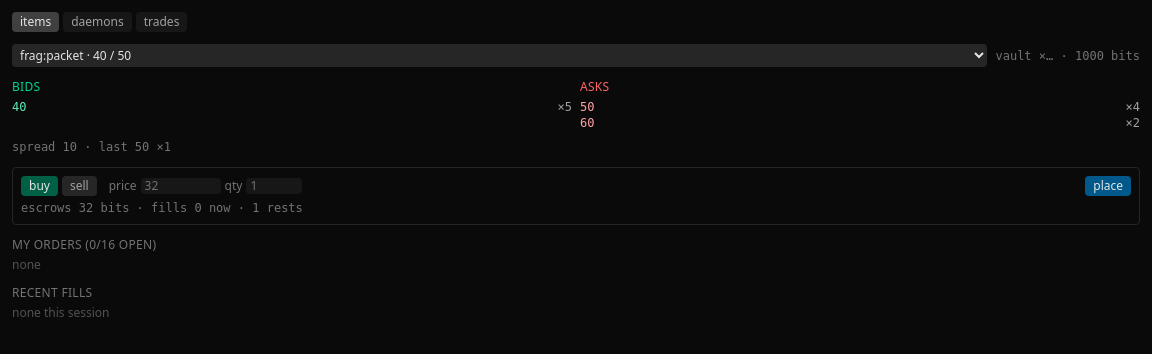
ExchangePanel › says the vault is loading instead of claiming it is empty
Click the button with test id "side-SELL" at x=79, y=186, box left=62, top=176, right=97, bottom=196
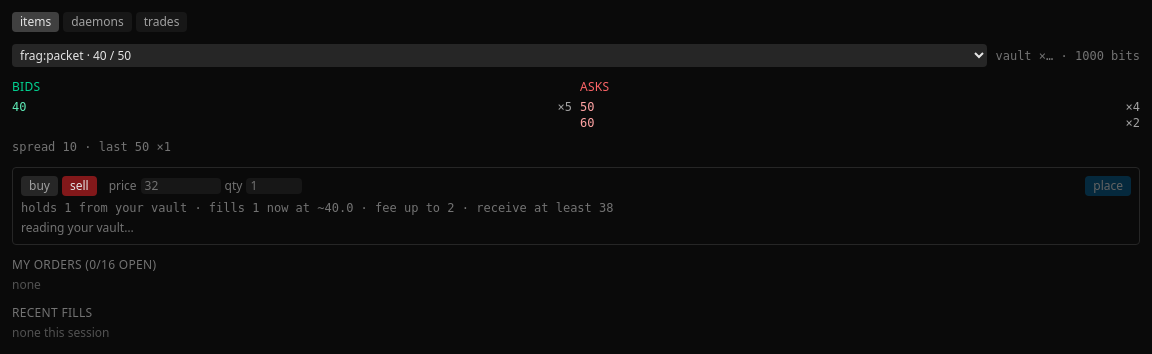
Expected: the text with test id "exchange-vault" shows "vault ×…", left=996, top=48, right=1140, bottom=64
Result: the button with test id "order-place" is disabled at left=1085, top=176, right=1131, bottom=196
Result: the text with test id "order-why" shows "…" at left=21, top=219, right=134, bottom=236
